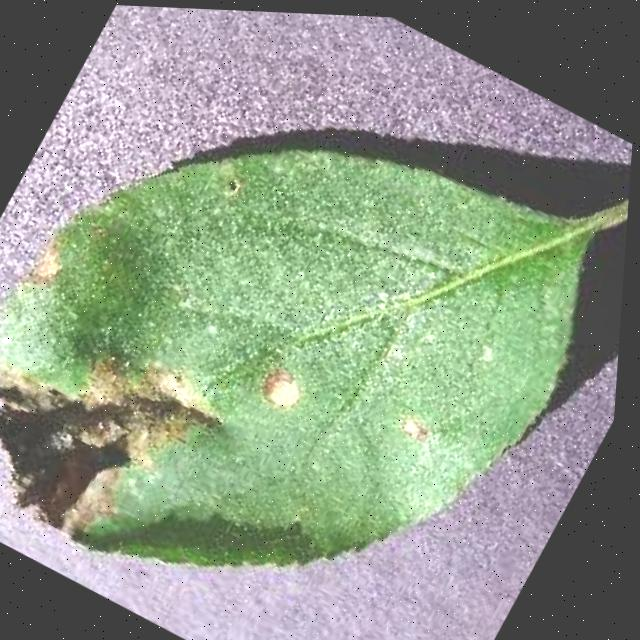black_rot: (0, 299, 238, 584), (246, 349, 328, 433), (19, 235, 84, 302), (386, 398, 454, 458)
